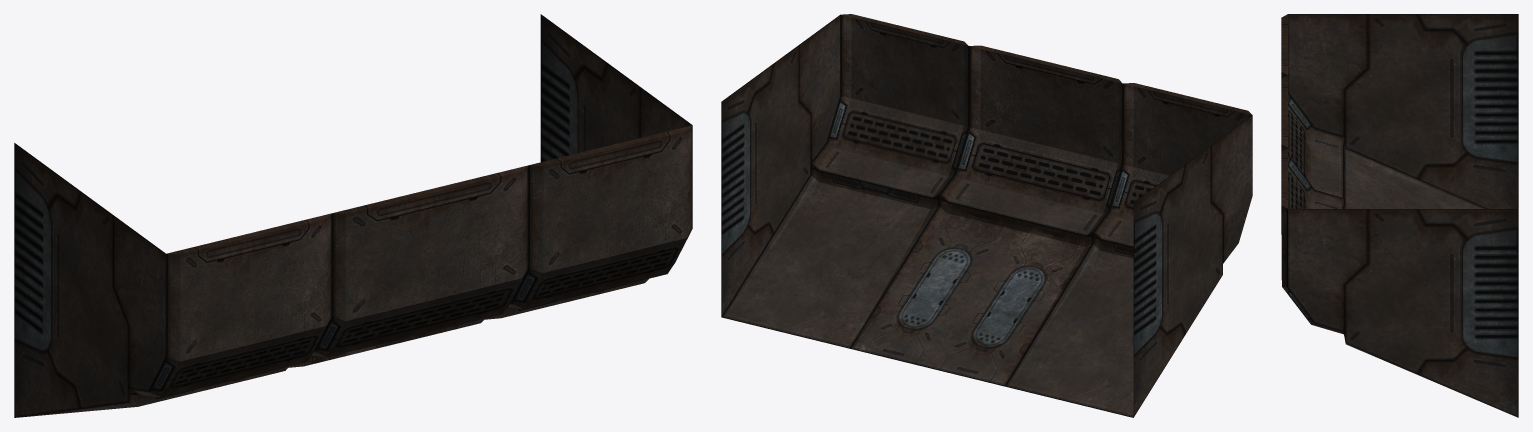
The model's file is consoles02_brown.dae.
The picture shows the model from 3 angles, left to right: view 1: azimuth 30°, elevation 25°; view 2: azimuth 150°, elevation 25°; view 3: azimuth 270°, elevation 25°; orthographic projection. The views are drawn at different scales.
Visible parts, largest first — view 1: polySurface130; view 2: polySurface130; view 3: polySurface130.
Boxes of the visible parts, left/top/right/bottom form: polySurface130: left=14, top=14, right=692, bottom=417; polySurface130: left=721, top=14, right=1252, bottom=417; polySurface130: left=1281, top=14, right=1518, bottom=417.
Bounding box in the file's own units: 4 × 2 × 2.06.
1 material, 1 textured.
